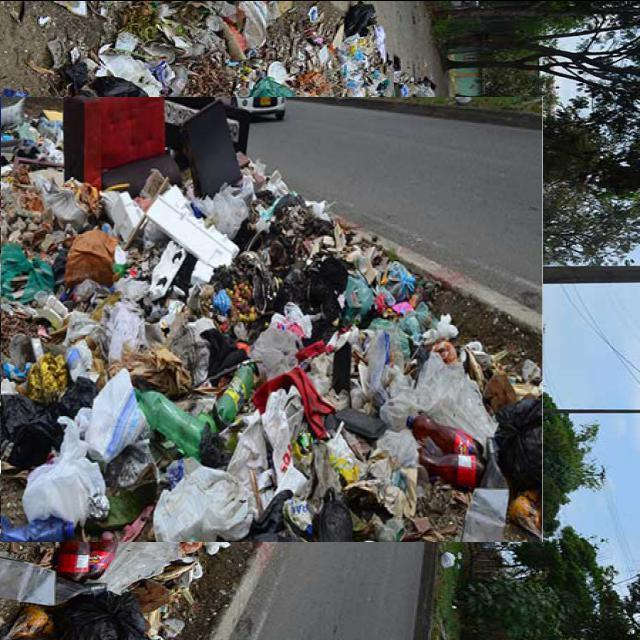Trashbag: (47, 578, 148, 640), (492, 392, 547, 488), (1, 395, 67, 473), (304, 492, 357, 539), (334, 0, 386, 43), (59, 375, 96, 421)
